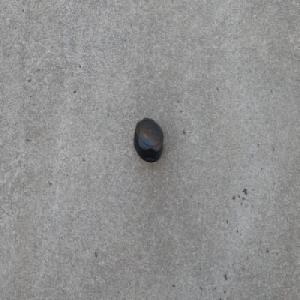FuelCap: (133, 117, 164, 163)
